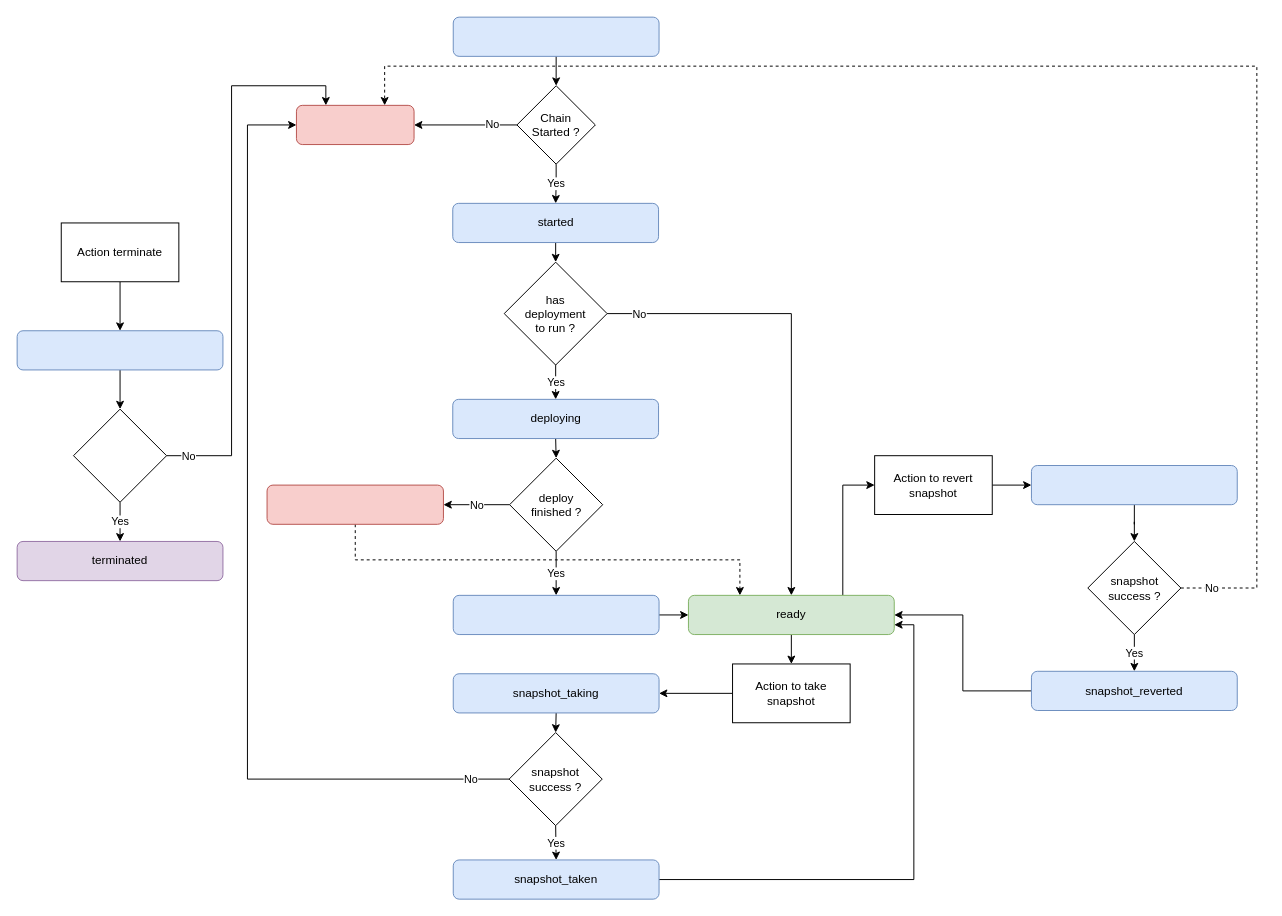
This 1282x916 diagram has some shape labels left out. Each missing label, with the box of its shape:
deployment_success: (452, 594, 659, 635)
depoloyment_failed: (266, 484, 443, 524)
failed: (295, 104, 414, 145)
initializing: (452, 16, 659, 56)
snapshot_reverting: (1030, 465, 1237, 505)
terminated success ?: (73, 408, 167, 502)
terminating: (16, 330, 223, 370)
